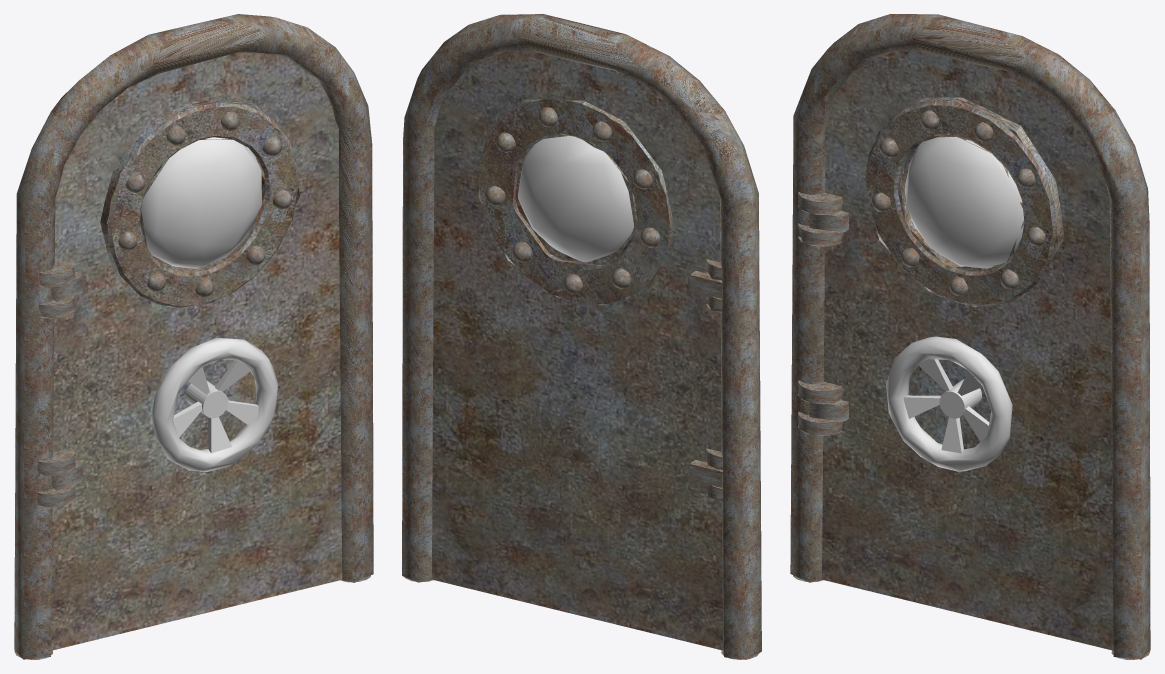
File: Door.fbx
The picture shows the model from 3 angles, left to right: view 1: azimuth 30°, elevation 25°; view 2: azimuth 150°, elevation 25°; view 3: azimuth 330°, elevation 25°; orthographic projection.
Visible parts, largest first — view 1: Cube.001, Cylinder, Cube, Sphere, Torus.001, Sphere.001, Cube.002, Cylinder.002, Cylinder.001, Cylinder.003; view 2: Cube.001, Cylinder, Cube, Sphere, Sphere.002, Cylinder.002, Cylinder.001; view 3: Cube.001, Cylinder, Cube, Sphere, Torus.001, Sphere.001, Cube.002, Cylinder.002, Cylinder.001, Cylinder.003.
Part boxes in pixels (x1=…): Cube.001: x1=51, y1=53, x2=342, y2=650; Cylinder: x1=14, y1=14, x2=373, y2=659; Cube: x1=100, y1=101, x2=299, y2=307; Sphere: x1=140, y1=135, x2=261, y2=268; Torus.001: x1=151, y1=337, x2=278, y2=471; Sphere.001: x1=118, y1=111, x2=291, y2=297; Cube.002: x1=173, y1=360, x2=258, y2=453; Cylinder.002: x1=37, y1=448, x2=82, y2=507; Cylinder.001: x1=38, y1=259, x2=82, y2=318; Cylinder.003: x1=186, y1=380, x2=228, y2=418; Cube.001: x1=432, y1=51, x2=723, y2=650; Cylinder: x1=402, y1=14, x2=761, y2=659; Cube: x1=478, y1=99, x2=674, y2=305; Sphere: x1=518, y1=136, x2=633, y2=262; Sphere.002: x1=486, y1=107, x2=659, y2=293; Cylinder.002: x1=689, y1=448, x2=722, y2=501; Cylinder.001: x1=689, y1=259, x2=722, y2=312; Cube.001: x1=822, y1=51, x2=1113, y2=650; Cylinder: x1=790, y1=14, x2=1150, y2=659; Cube: x1=865, y1=96, x2=1064, y2=307; Sphere: x1=905, y1=134, x2=1023, y2=268; Torus.001: x1=886, y1=336, x2=1012, y2=471; Sphere.001: x1=872, y1=110, x2=1045, y2=296; Cube.002: x1=903, y1=359, x2=989, y2=453; Cylinder.002: x1=798, y1=380, x2=849, y2=435; Cylinder.001: x1=798, y1=192, x2=848, y2=246; Cylinder.003: x1=939, y1=379, x2=981, y2=418.
Size of the model in its own units: 336 by 535 by 68.95.
Materials: 3 (1 with a texture image).
